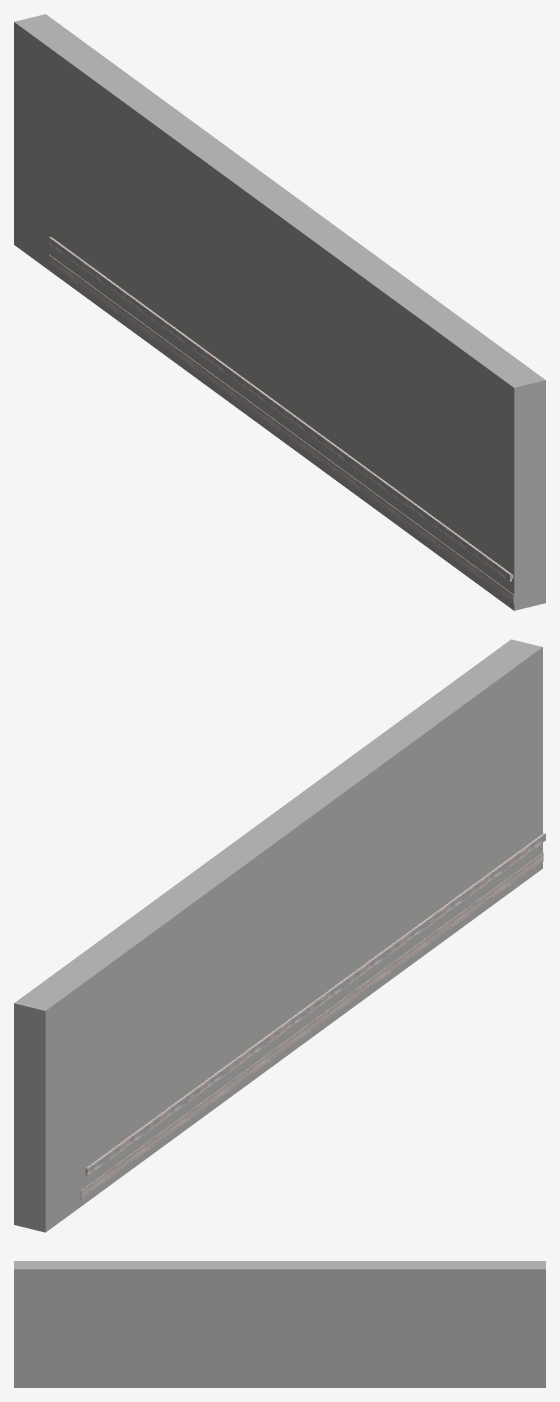
File: Inner_left_wall.obj
The picture shows the model from 3 angles, top to bottom: view 1: azimuth 30°, elevation 25°; view 2: azimuth 150°, elevation 25°; view 3: azimuth 270°, elevation 25°; orthographic projection. The views are drawn at different scales.
Parts seen in each view (by area): view 1: Part4, Part3, Part2; view 2: Part4, Part3, Part2; view 3: Part4.
Boxes of the visible parts, x1,y1,x2,y2 form: Part4: (14,14,545,610); Part3: (49,237,511,581); Part2: (48,254,514,603); Part4: (14,639,542,1232); Part3: (85,833,545,1175); Part2: (80,852,543,1199); Part4: (14,1261,545,1387).
Size of the model in its own units: 4.07 by 24.43 by 99.38.
Materials: 3 (2 with a texture image).
